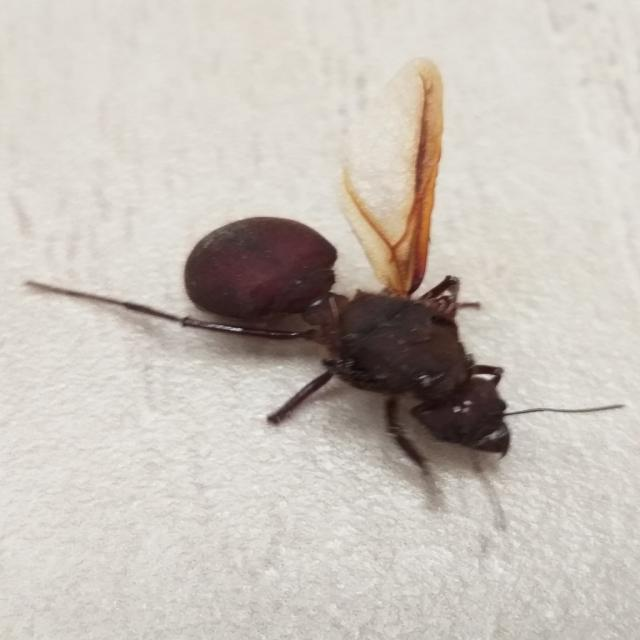Alive-Female-Alate: (19, 57, 626, 530)
